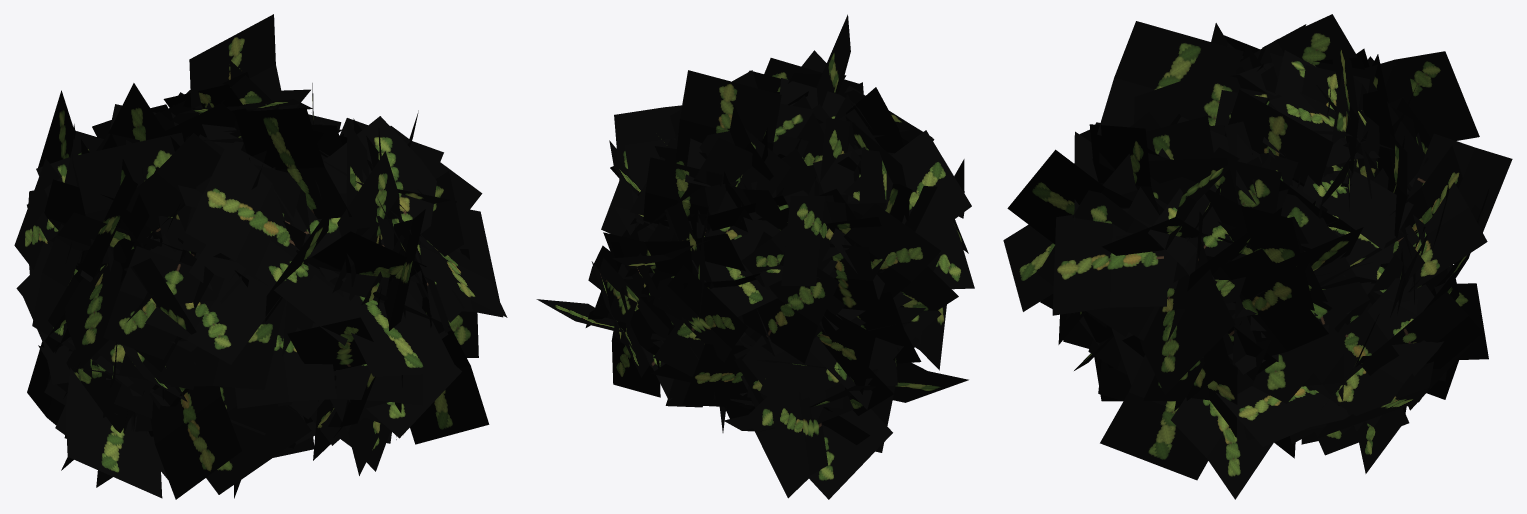
Rendered from SM_Bush_A_Leaves.fbx.
3 renders of one model, left to right at view 1: azimuth 30°, elevation 25°; view 2: azimuth 150°, elevation 25°; view 3: azimuth 270°, elevation 25°, orthographic. The views are drawn at different scales.
Visible parts, largest first — view 1: Bush_A_Leaves; view 2: Bush_A_Leaves; view 3: Bush_A_Leaves.
Part boxes in pixels (bbox=[...]): Bush_A_Leaves: bbox=[14, 14, 507, 499]; Bush_A_Leaves: bbox=[536, 14, 974, 499]; Bush_A_Leaves: bbox=[1003, 14, 1512, 499].
Size of the model in its own units: 2.94 by 2.82 by 2.76.
1 material, 1 textured.
